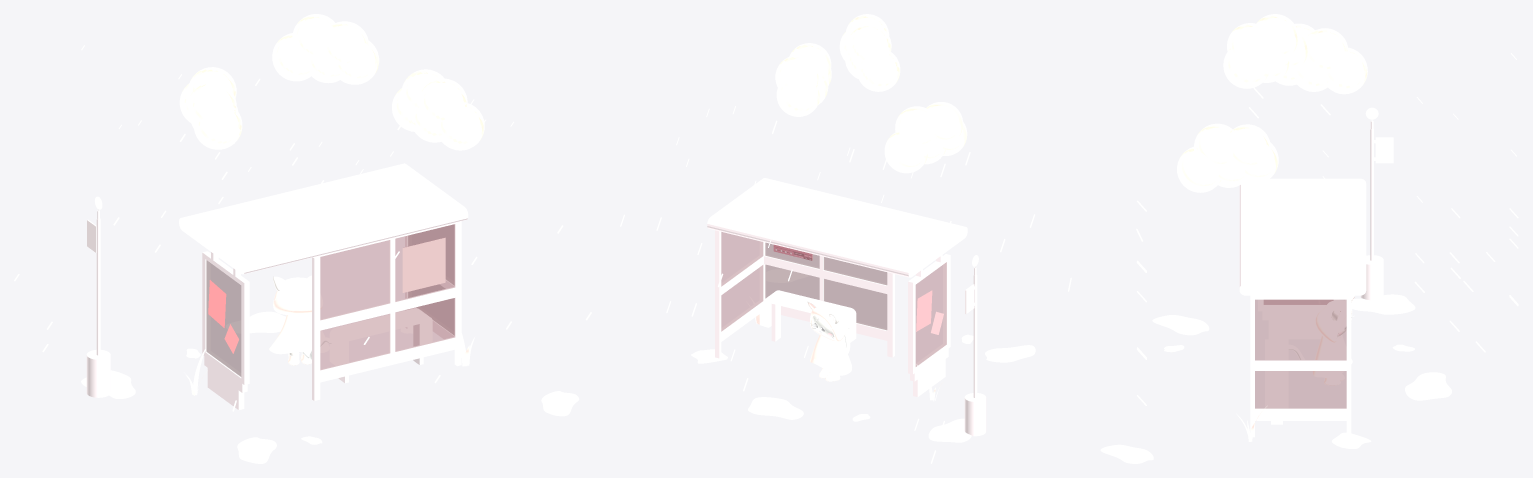
The model's file is rainy_day.glb.
3 renders of one model, left to right at view 1: azimuth 30°, elevation 25°; view 2: azimuth 150°, elevation 25°; view 3: azimuth 270°, elevation 25°, orthographic. The views are drawn at different scales.
Parts seen in each view (by area): view 1: Cube.010_7, Plane.012_39, Cube.008_6, Sphere.004_94, Sphere.002_96, Sphere.001_95, Cube.009_8, Plane.011_40, Cube.011_19, Plane.022_103, Plane_38, Cylinder.001_106 (+9 smaller); view 2: Cube.010_7, Cube.008_6, Plane.012_39, Sphere.001_95, Sphere.004_94, Sphere.002_96, Plane_38, Cube.009_8, Plane.011_40, Cylinder.001_106, Cube.011_19, Cube_0 (+7 smaller); view 3: Cube.010_7, Plane_38, Sphere.002_96, Sphere.004_94, Cube.008_6, Sphere.001_95, Cube.009_8, Cube.011_19, Cylinder.001_106, Plane.002_10, Plane.001_88, Plane.004_12 (+6 smaller).
Part boxes in pixels (box(x1,y1,x2,y2)): Cube.010_7: box(179, 163, 468, 274); Plane.012_39: box(320, 224, 454, 369); Cube.008_6: box(312, 221, 461, 400); Sphere.004_94: box(272, 14, 379, 84); Sphere.002_96: box(392, 69, 484, 150); Sphere.001_95: box(179, 67, 242, 149); Cube.009_8: box(202, 251, 249, 409); Plane.011_40: box(206, 260, 240, 376); Cube.011_19: box(329, 308, 432, 365); Plane.022_103: box(402, 237, 445, 292); Plane_38: box(408, 225, 454, 334); Cylinder.001_106: box(86, 209, 110, 397); Cube.010_7: box(707, 178, 967, 277); Cube.008_6: box(715, 230, 894, 358); Plane.012_39: box(765, 243, 886, 329); Sphere.001_95: box(884, 102, 967, 173); Sphere.004_94: box(839, 14, 900, 91); Sphere.002_96: box(775, 43, 831, 116); Plane_38: box(721, 232, 762, 331); Cube.009_8: box(908, 254, 950, 396); Plane.011_40: box(916, 262, 946, 366); Cylinder.001_106: box(964, 266, 986, 436); Cube.011_19: box(763, 290, 856, 346); Cube_0: box(810, 333, 851, 375); Cube.010_7: box(1239, 178, 1366, 295); Plane_38: box(1255, 300, 1346, 408); Sphere.002_96: box(1177, 123, 1278, 192); Sphere.004_94: box(1223, 14, 1308, 88); Cube.008_6: box(1250, 295, 1351, 437); Sphere.001_95: box(1275, 23, 1367, 94); Cube.009_8: box(1258, 299, 1338, 339); Cube.011_19: box(1265, 339, 1288, 408); Cylinder.001_106: box(1360, 120, 1383, 300); Plane.002_10: box(1405, 372, 1451, 400); Plane.001_88: box(1266, 194, 1316, 223); Plane.004_12: box(1351, 294, 1415, 314).
Bounding box in the file's own units: 14.2 × 13.28 × 13.95.
Materials: 32 (1 with a texture image).
